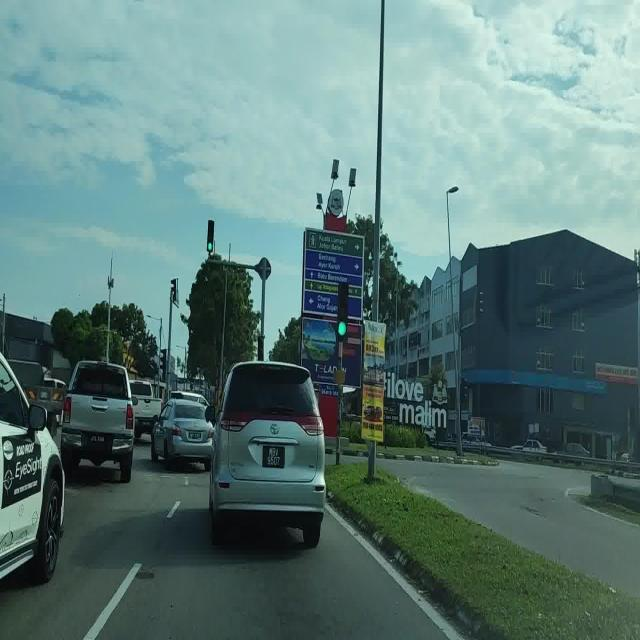green_light: (336, 281, 348, 341), (206, 220, 215, 253)
